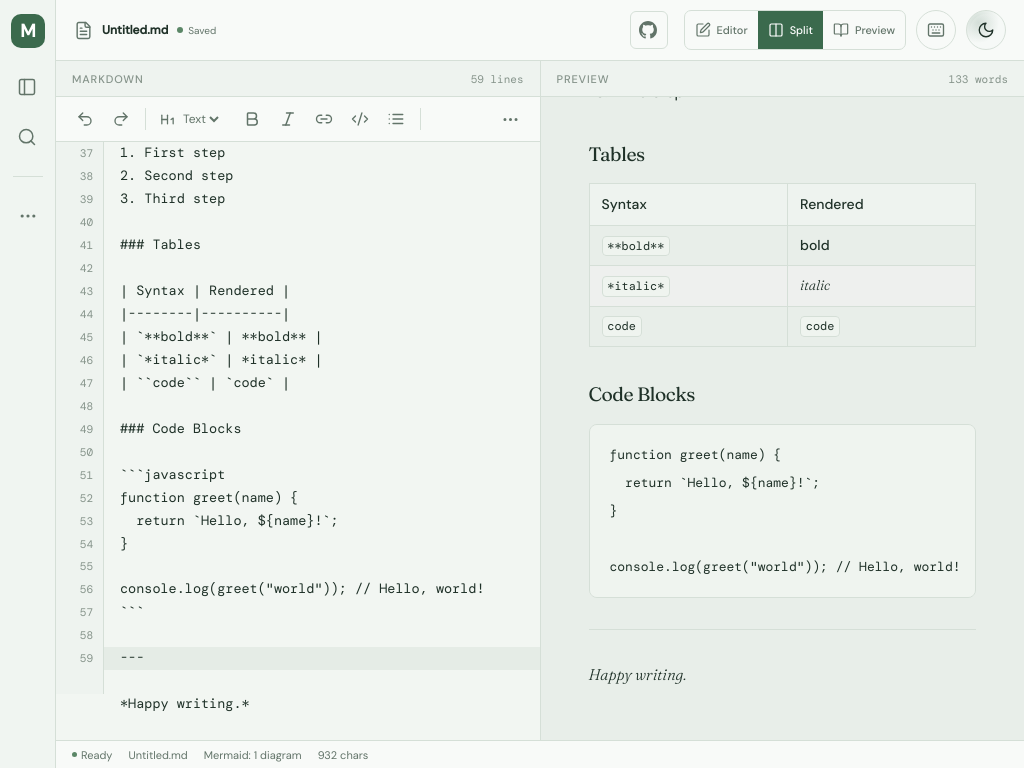
Test: MarkdownStudioView › opens Find from the workspace rail
The width and height of the screenshot is (1024, 768).
(page scrolled)
Click the button named "Find in document": (27, 137) [6,116,48,158]
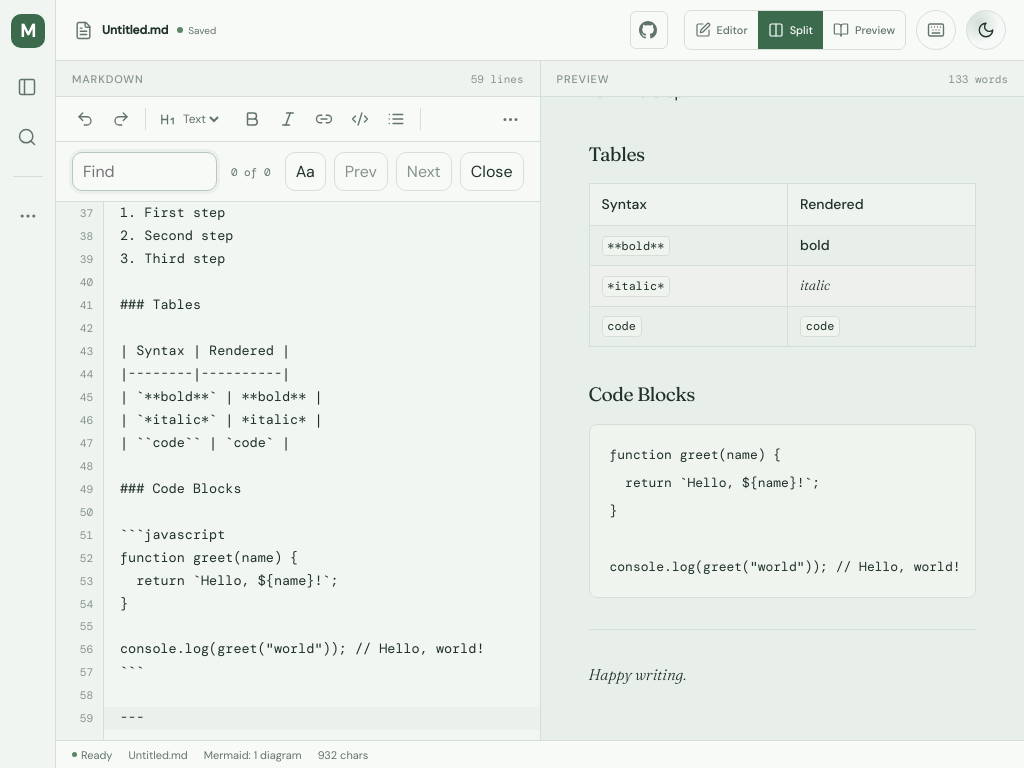
expect the field with class "find-replace-bar__input" is shown: met, box [72,152,217,191]
